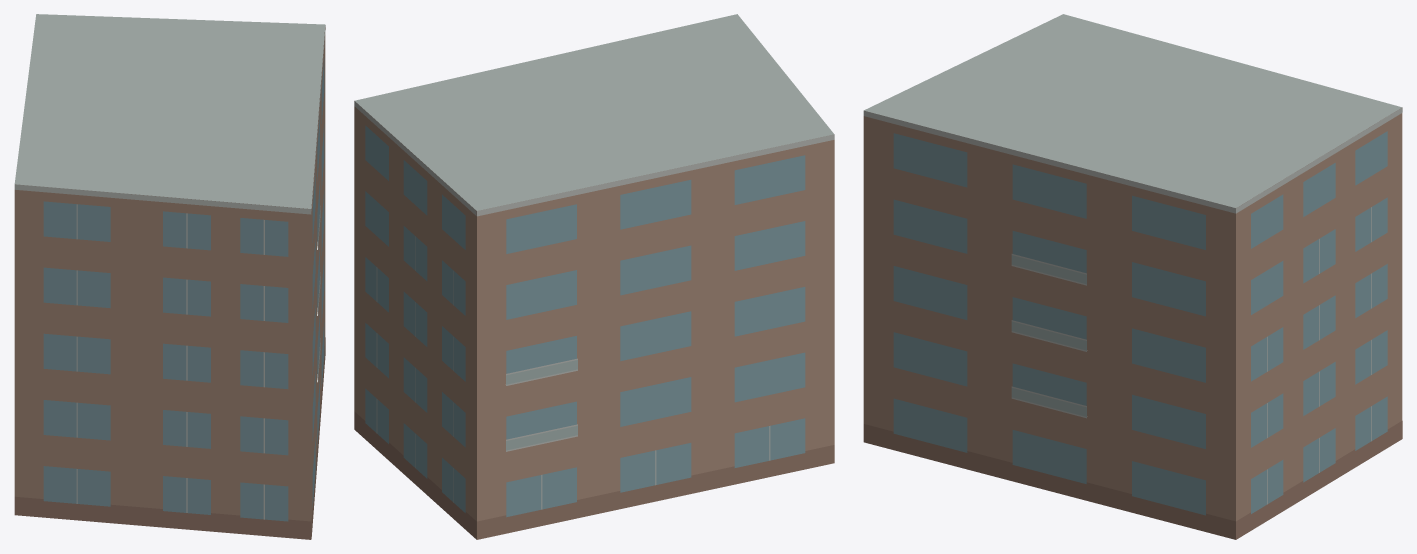
File: survey-upis-32702792.glb
The picture shows the model from 3 angles, left to right: view 1: azimuth 30°, elevation 25°; view 2: azimuth 150°, elevation 25°; view 3: azimuth 270°, elevation 25°; orthographic projection.
Parts seen in each view (by area): view 1: survey-upis-32702792.tmp; view 2: survey-upis-32702792.tmp; view 3: survey-upis-32702792.tmp.
Boxes of the visible parts, box(x1,y1,x2,y2) form: survey-upis-32702792.tmp: box(14, 14, 325, 539); survey-upis-32702792.tmp: box(354, 14, 834, 539); survey-upis-32702792.tmp: box(863, 14, 1402, 539).
Bounding box in the file's own units: 18.59 × 14.8 × 21.8.
